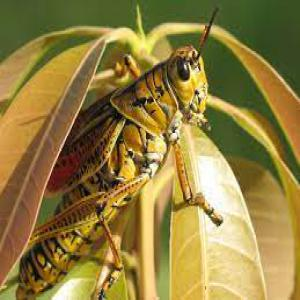locust: (35, 32, 215, 299)
